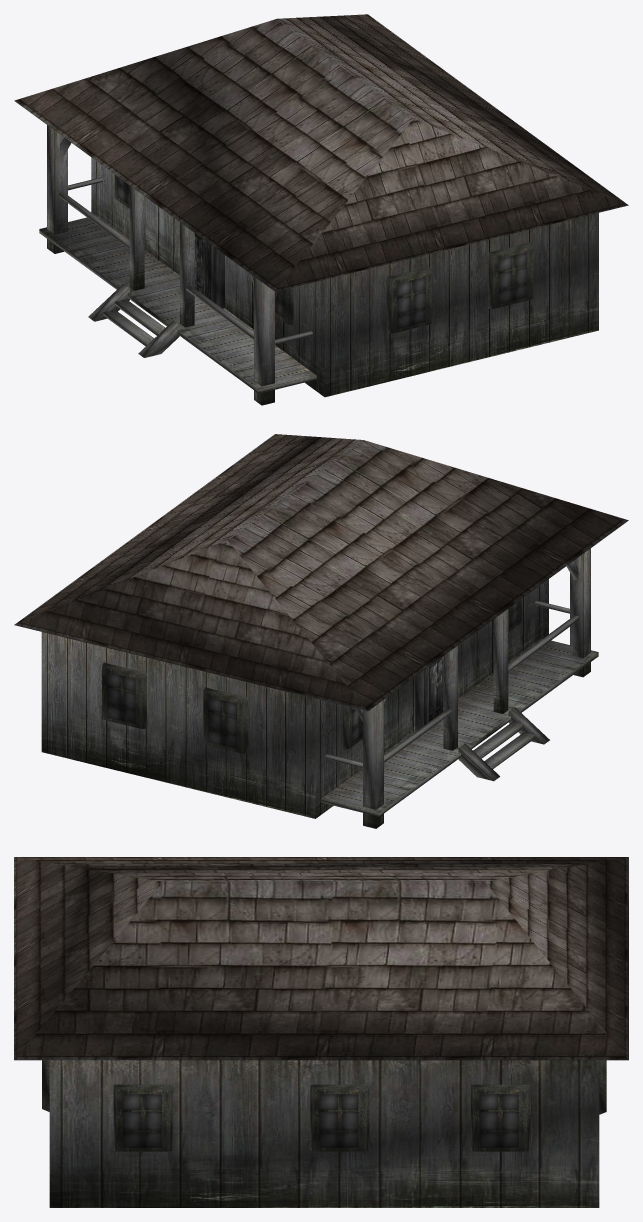
The model's file is house3-02.obj.
3 renders of one model, top to bottom at view 1: azimuth 30°, elevation 25°; view 2: azimuth 150°, elevation 25°; view 3: azimuth 270°, elevation 25°, orthographic. The views are drawn at different scales.
Bounding box in the file's own units: 9.59 × 5.17 × 11.41.
1 material, 1 textured.
